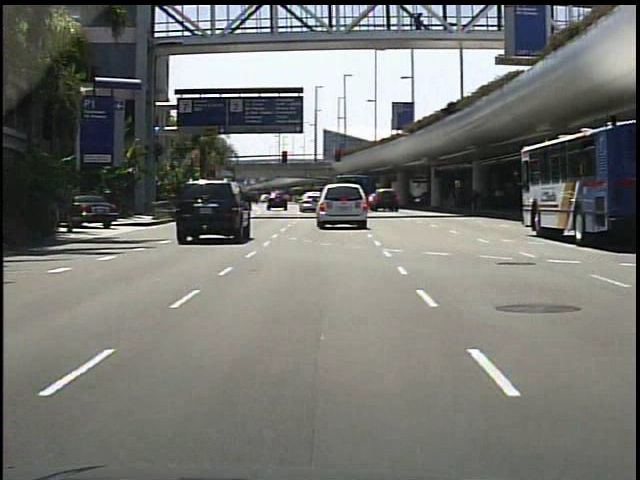person: (409, 12, 427, 42)
